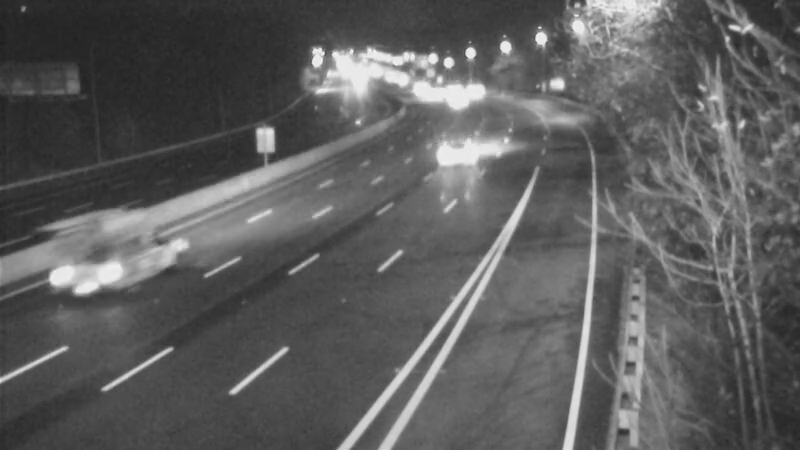vehicle: (410, 112, 490, 192), (42, 231, 122, 311), (393, 61, 443, 111), (447, 66, 497, 116), (403, 73, 453, 123), (427, 77, 477, 127)
